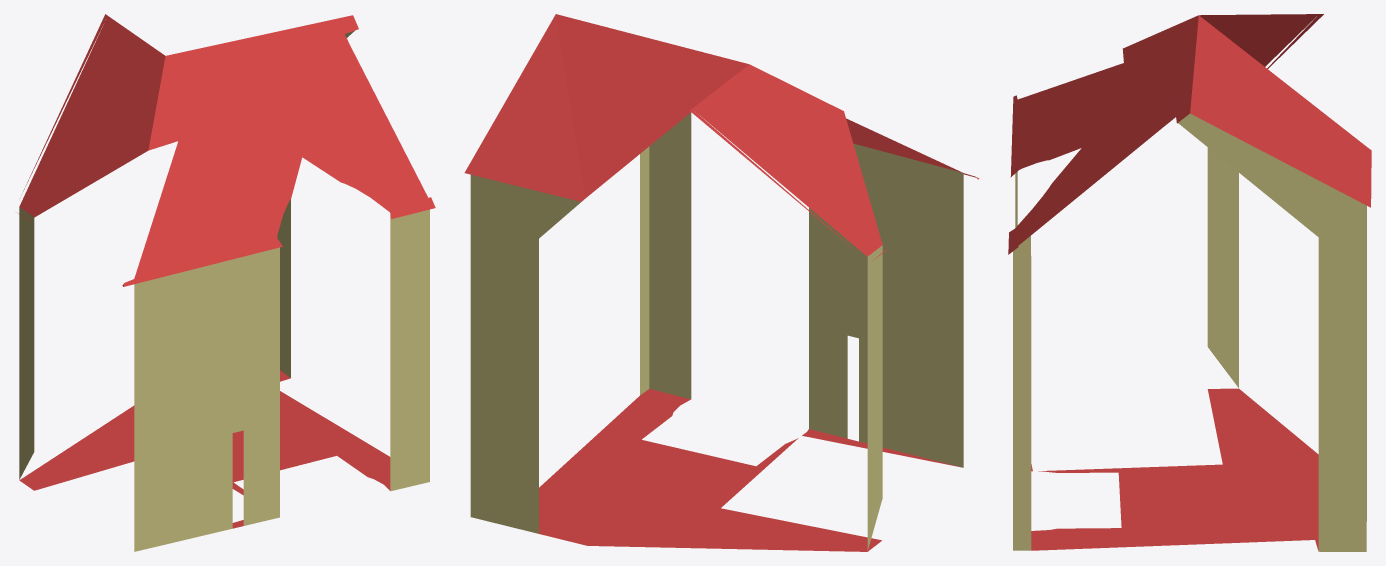
3 views of the same model, side by side, from view 1: azimuth 30°, elevation 25°; view 2: azimuth 150°, elevation 25°; view 3: azimuth 270°, elevation 25° (orthographic). The views are drawn at different scales.
Size of the model in its own units: 21.6 by 19.84 by 26.57.
